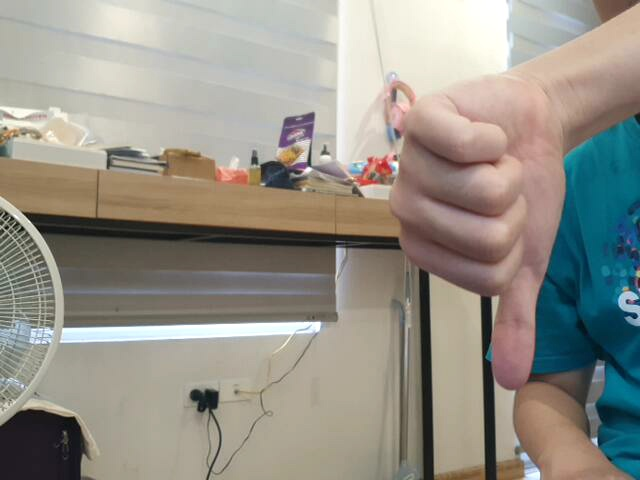ThumbsDown: (381, 67, 569, 396)
